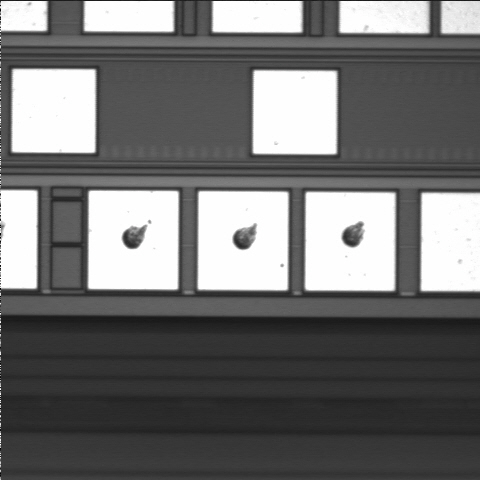pad: (198, 191, 288, 290), (305, 192, 395, 291), (88, 191, 178, 289), (12, 69, 95, 153), (253, 71, 337, 154)
